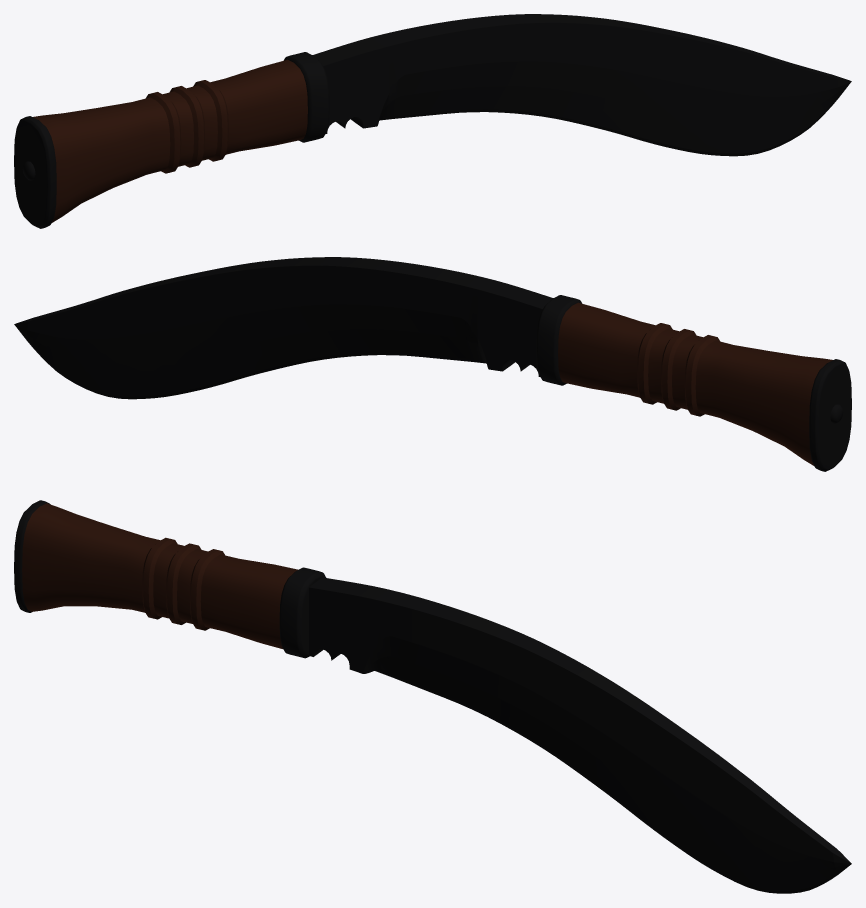
Rendered from k_kukri.glb.
The picture shows the model from 3 angles, top to bottom: view 1: azimuth 30°, elevation 25°; view 2: azimuth 150°, elevation 25°; view 3: azimuth 330°, elevation 25°; orthographic projection.
Visible parts, largest first — view 1: SM_W_k_kukri; view 2: SM_W_k_kukri; view 3: SM_W_k_kukri.
Part boxes in pixels (<box>): SM_W_k_kukri: <box>14,14,851,228</box>; SM_W_k_kukri: <box>14,257,851,471</box>; SM_W_k_kukri: <box>14,500,851,893</box>.
Bounding box in the file's own units: 0.33 × 0.08 × 0.025.
